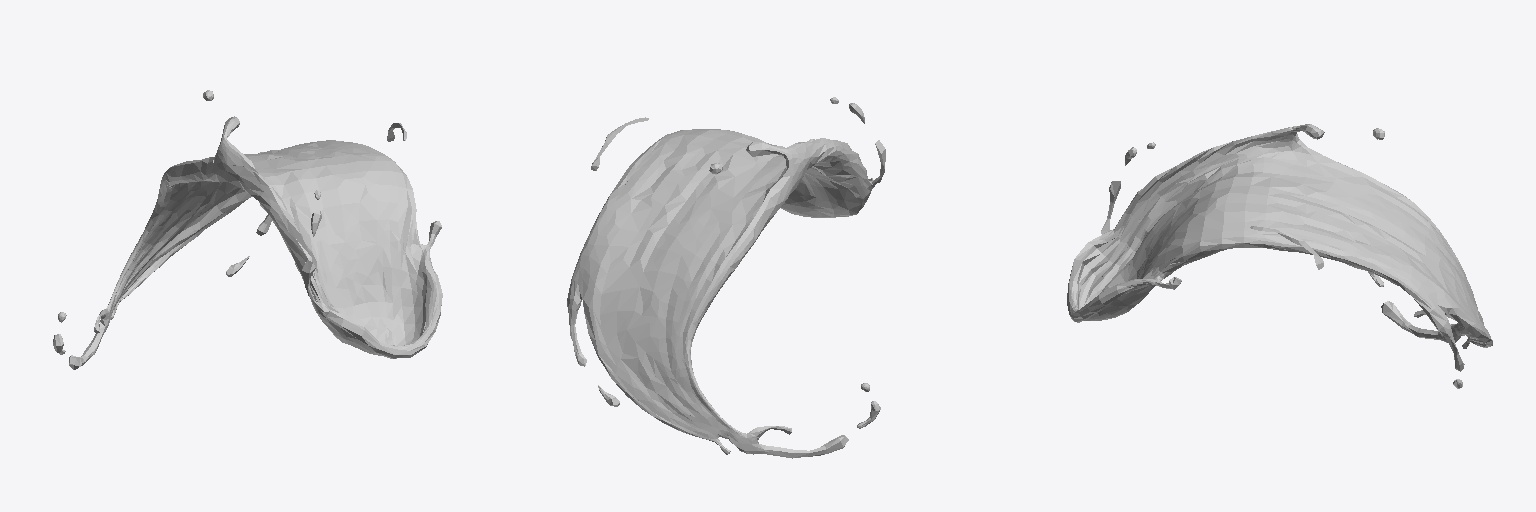
File: splash_remeshed.obj
3 renders of one model, left to right at view 1: azimuth 30°, elevation 25°; view 2: azimuth 150°, elevation 25°; view 3: azimuth 270°, elevation 25°, orthographic.
Parts seen in each view (by area): view 1: Chocolate_Splash_Free_002; view 2: Chocolate_Splash_Free_002; view 3: Chocolate_Splash_Free_002.
Boxes of the visible parts, x1=… form: Chocolate_Splash_Free_002: x1=53, y1=90, x2=442, y2=369; Chocolate_Splash_Free_002: x1=567, y1=97, x2=885, y2=458; Chocolate_Splash_Free_002: x1=1067, y1=124, x2=1492, y2=388.
Size of the model in its own units: 0.5298 by 0.4119 by 0.6213.